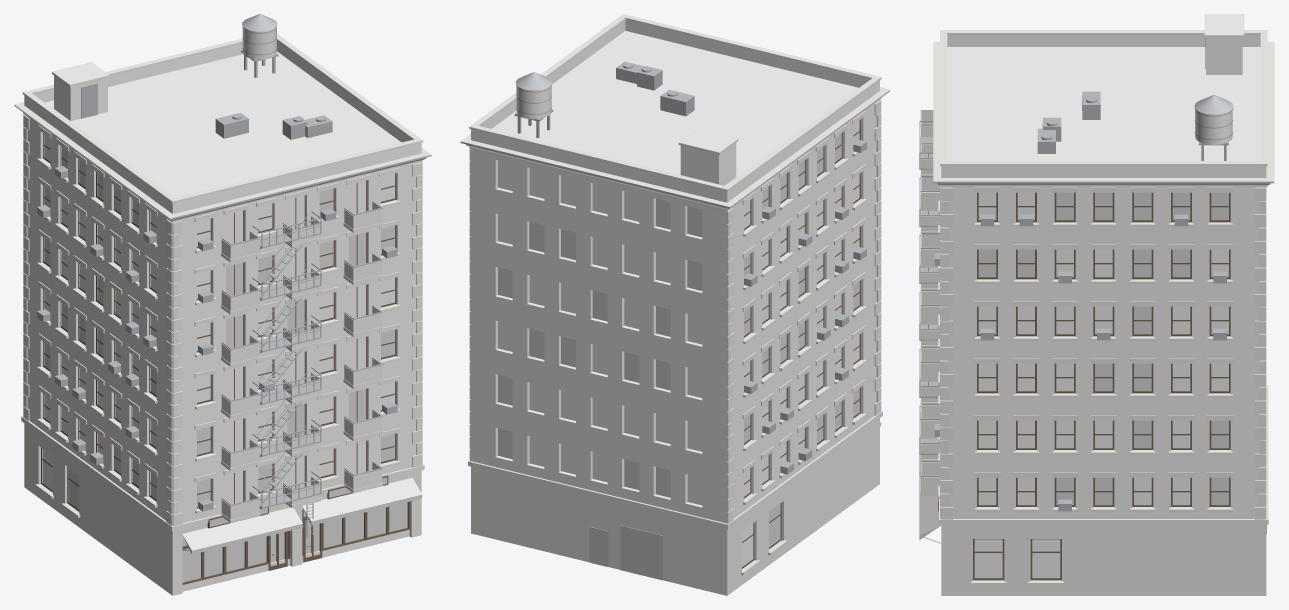
Rendered from midtown_w60f6.glb.
3 renders of one model, left to right at view 1: azimuth 30°, elevation 25°; view 2: azimuth 150°, elevation 25°; view 3: azimuth 270°, elevation 25°, orthographic. The views are drawn at different scales.
Visible parts, largest first — view 1: midtown_w60f6_Walls, midtown_w60f6_Trim, midtown_w60f6_Roof, midtown_w60f6_Glass, midtown_w60f6_Details, midtown_w60f6_WindowsLit, midtown_w60f6_Frames, midtown_w60f6_Awning; view 2: midtown_w60f6_Walls, midtown_w60f6_Trim, midtown_w60f6_Roof, midtown_w60f6_Glass, midtown_w60f6_WindowsLit, midtown_w60f6_Details, midtown_w60f6_Frames, midtown_w60f6_Doors; view 3: midtown_w60f6_Walls, midtown_w60f6_Trim, midtown_w60f6_Roof, midtown_w60f6_Glass, midtown_w60f6_Frames, midtown_w60f6_WindowsLit, midtown_w60f6_Details, midtown_w60f6_Awning.
Boxes of the visible parts, x1=… form: midtown_w60f6_Walls: x1=24, y1=41, x2=421, y2=522; midtown_w60f6_Trim: x1=14, y1=26, x2=431, y2=595; midtown_w60f6_Roof: x1=45, y1=51, x2=401, y2=197; midtown_w60f6_Glass: x1=42, y1=134, x2=394, y2=504; midtown_w60f6_Details: x1=37, y1=14, x2=397, y2=555; midtown_w60f6_WindowsLit: x1=44, y1=147, x2=407, y2=582; midtown_w60f6_Frames: x1=41, y1=133, x2=409, y2=584; midtown_w60f6_Awning: x1=182, y1=478, x2=422, y2=554; midtown_w60f6_Walls: x1=471, y1=20, x2=879, y2=523; midtown_w60f6_Trim: x1=460, y1=14, x2=890, y2=595; midtown_w60f6_Roof: x1=492, y1=31, x2=858, y2=185; midtown_w60f6_Glass: x1=498, y1=120, x2=859, y2=566; midtown_w60f6_WindowsLit: x1=498, y1=134, x2=859, y2=547; midtown_w60f6_Details: x1=514, y1=61, x2=866, y2=474; midtown_w60f6_Frames: x1=742, y1=119, x2=860, y2=568; midtown_w60f6_Doors: x1=589, y1=525, x2=662, y2=580; midtown_w60f6_Walls: x1=941, y1=35, x2=1266, y2=518; midtown_w60f6_Trim: x1=920, y1=14, x2=1274, y2=595; midtown_w60f6_Roof: x1=947, y1=14, x2=1260, y2=160; midtown_w60f6_Glass: x1=974, y1=192, x2=1228, y2=578; midtown_w60f6_Frames: x1=938, y1=192, x2=1230, y2=580; midtown_w60f6_WindowsLit: x1=978, y1=192, x2=1228, y2=505; midtown_w60f6_Details: x1=919, y1=37, x2=1233, y2=543; midtown_w60f6_Awning: x1=919, y1=412, x2=941, y2=539.
Bounding box in the file's own units: 63.12 × 101 × 67.76.
